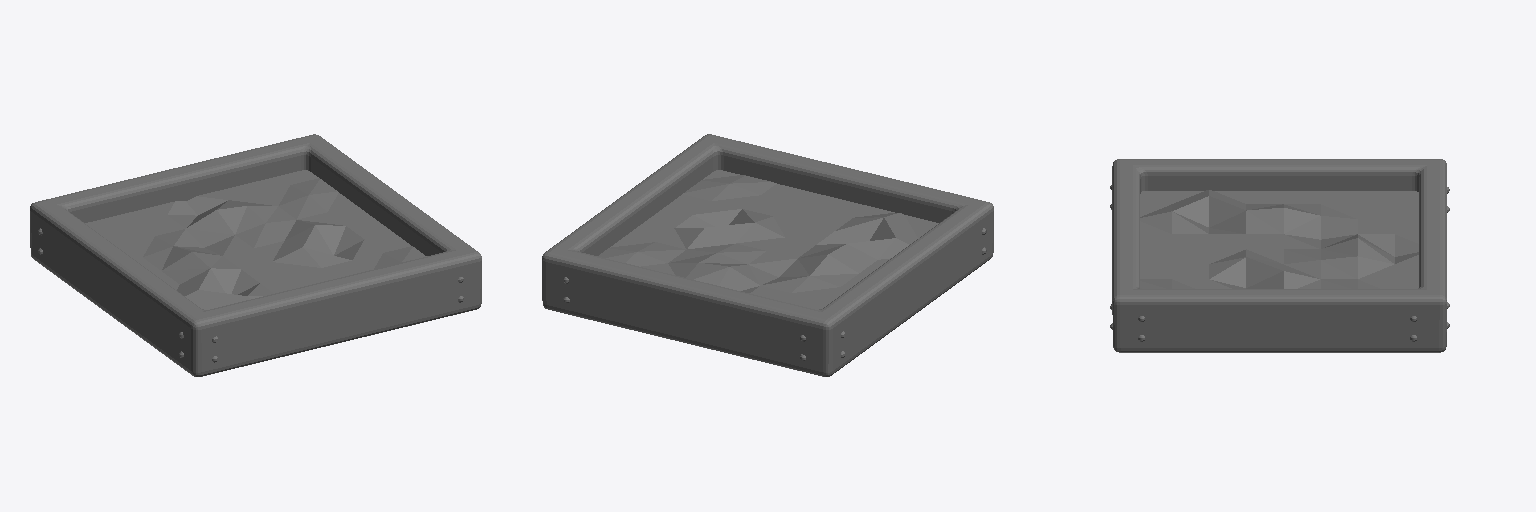
Rendered from sandpit.OBJ.
The picture shows the model from 3 angles: view 1: azimuth 30°, elevation 25°; view 2: azimuth 150°, elevation 25°; view 3: azimuth 270°, elevation 25°; orthographic projection.
Visible parts, largest first — view 1: Box002; view 2: Box002; view 3: Box002.
Boxes of the visible parts, <box> form: Box002: <box>30,134,481,376</box>; Box002: <box>542,134,993,376</box>; Box002: <box>1110,159,1449,352</box>.
Bounding box in the file's own units: 17.71 × 3.27 × 17.67.